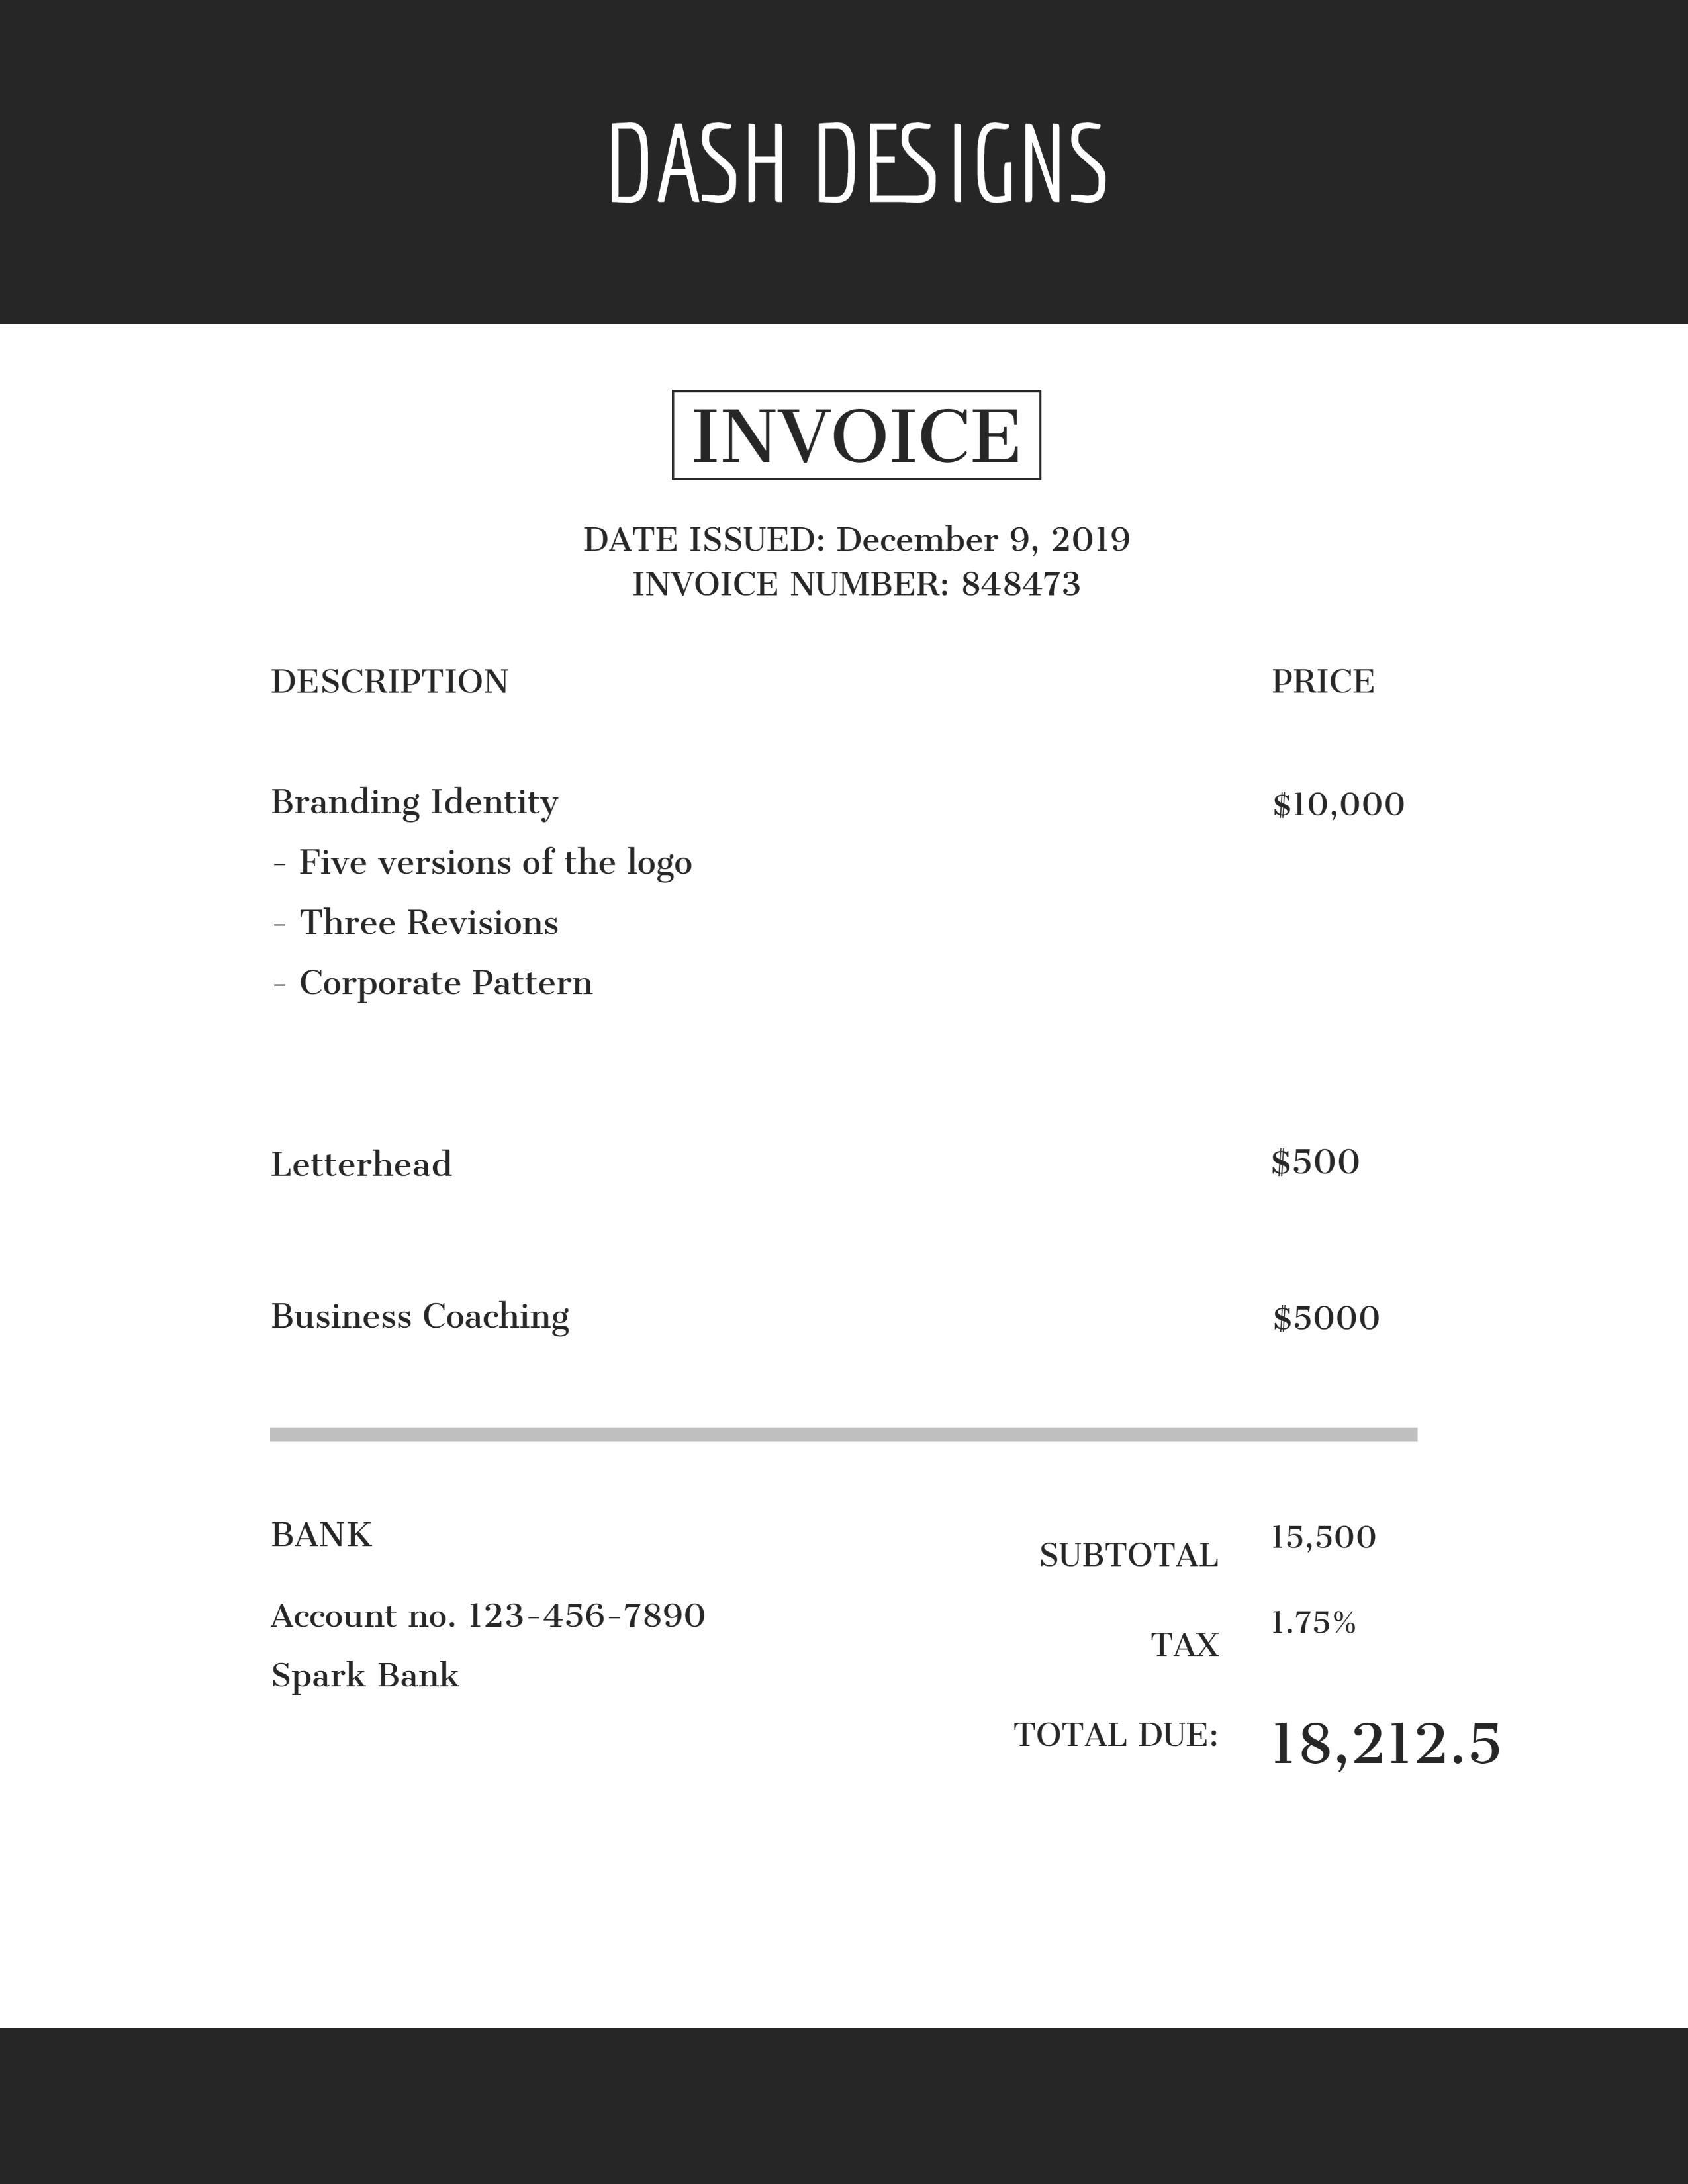ROI: (231, 640, 1427, 1370), (998, 1494, 1596, 1829), (246, 1486, 759, 1750), (559, 78, 1158, 261), (560, 509, 1160, 613)
